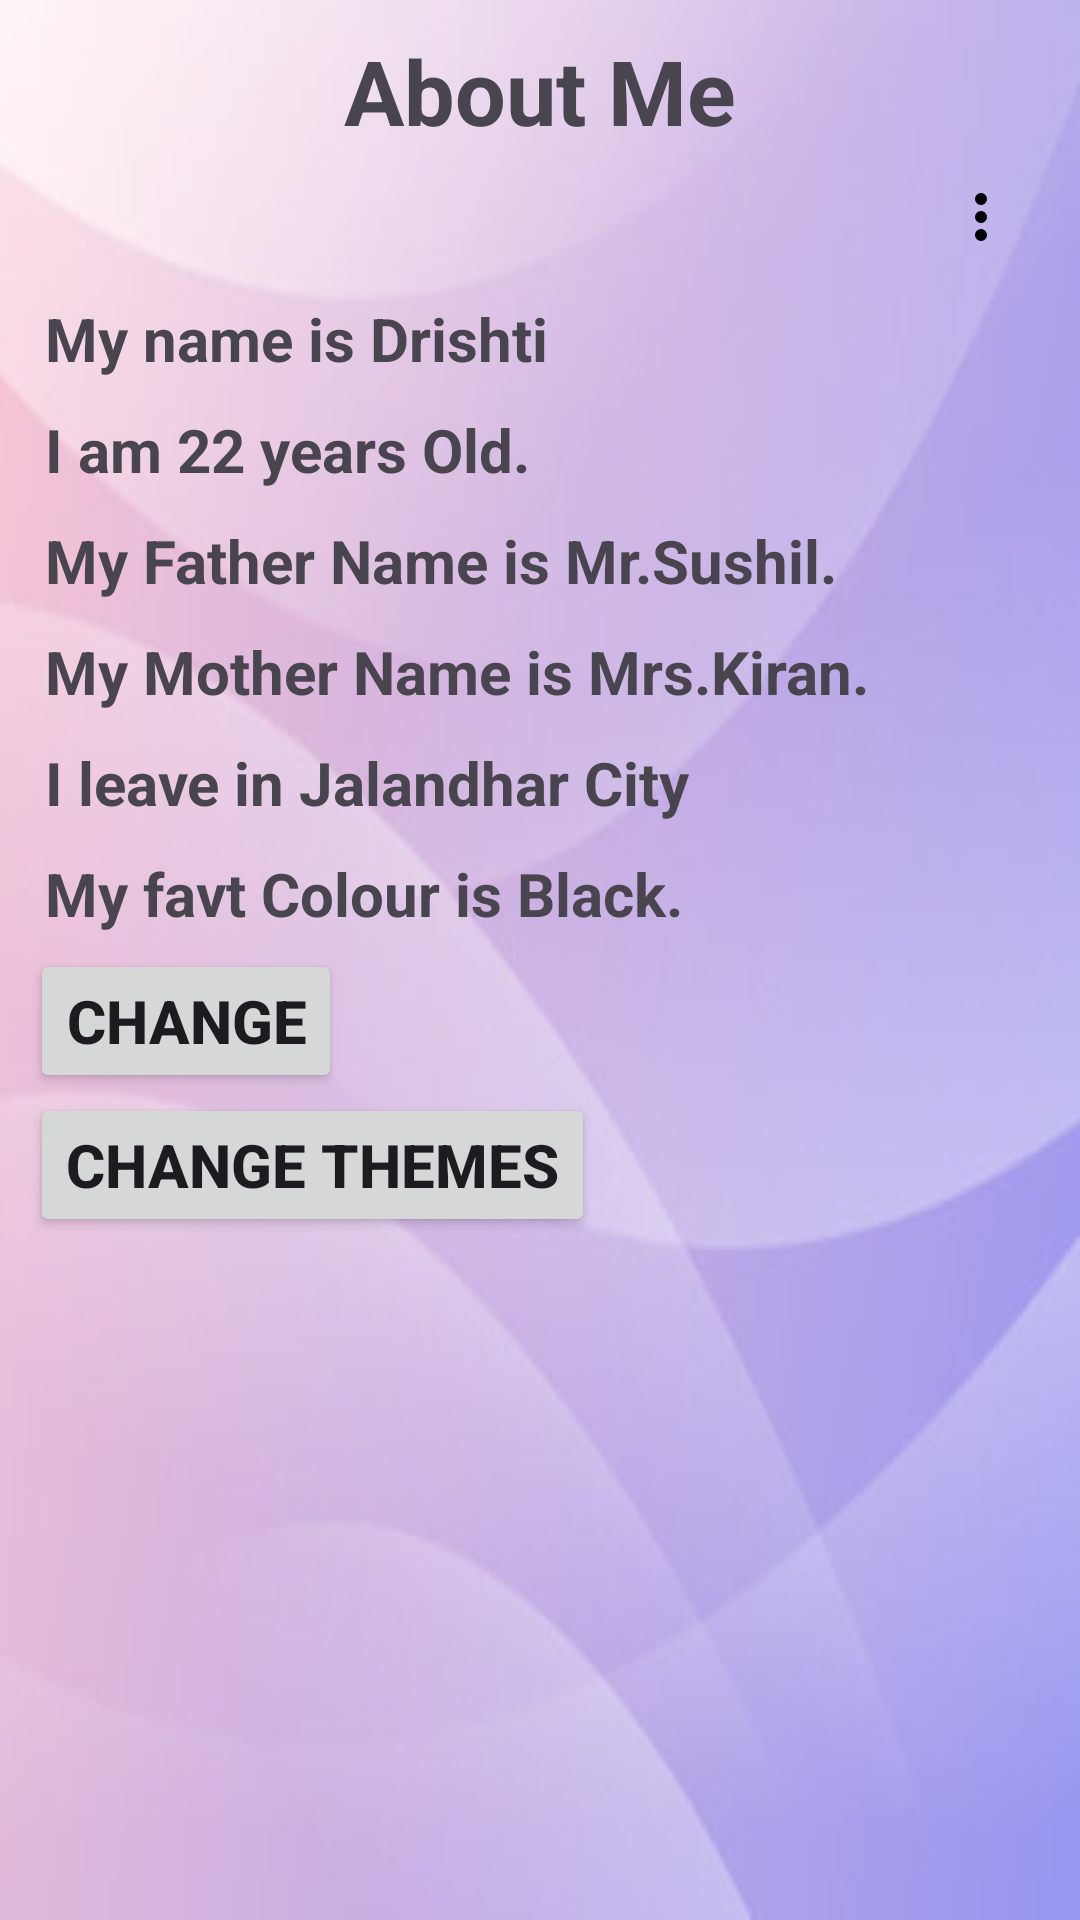

Screen size 1080x1920. Icon name, then its center in pixels as (x,y):
dots: (981,217)
